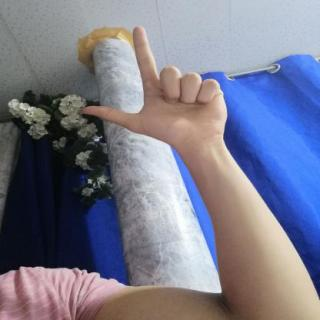LAAM: (68, 19, 240, 152)
